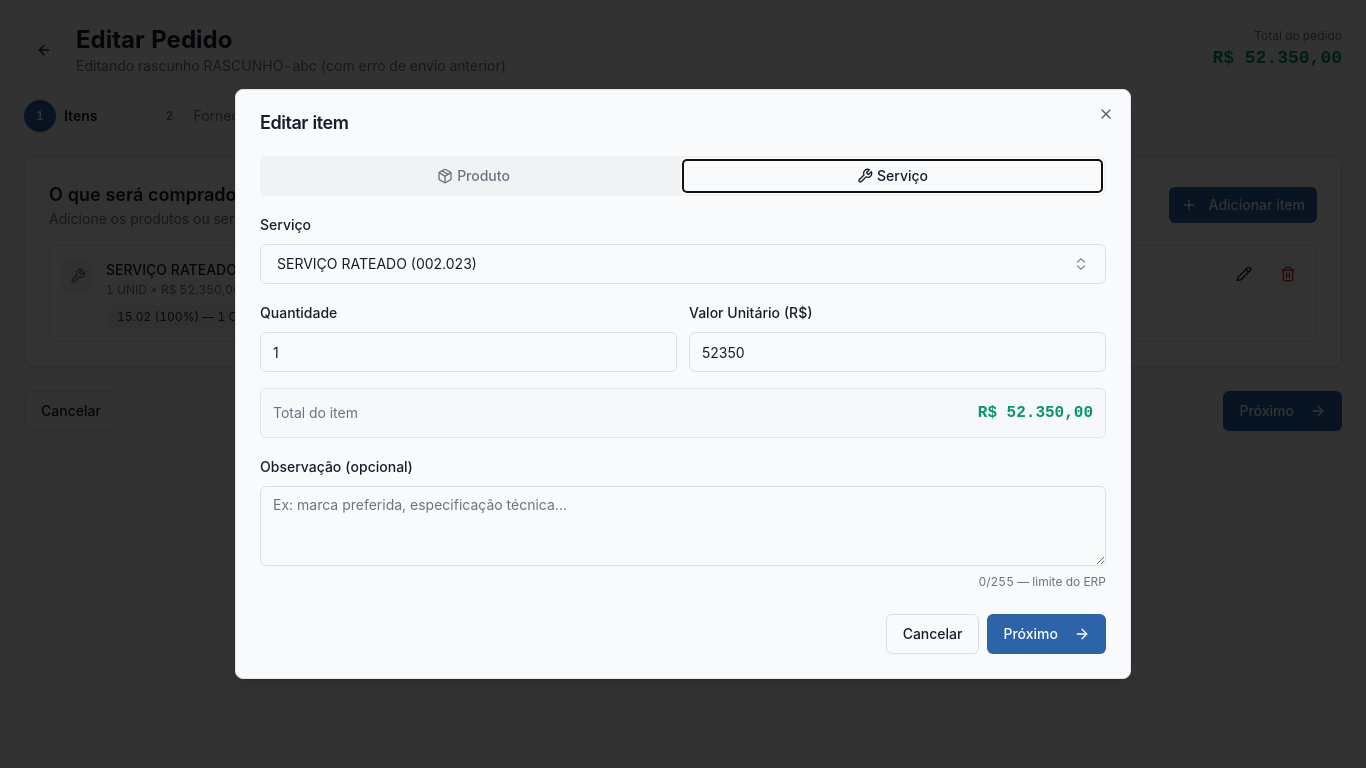
Scenario: wizard de pedido — rateio em massa por valor, ponta a ponta na tela › colar → escolher → aplicar → salvar → enviar: 19 CCs, R$ 52.350,00 e 100,0000% exatos
Earlier steps of the test are not shown.
Later steps or results of the test are not shown.
Click the button "Próximo".
click(1047, 634)  # box [988, 614, 1106, 654]
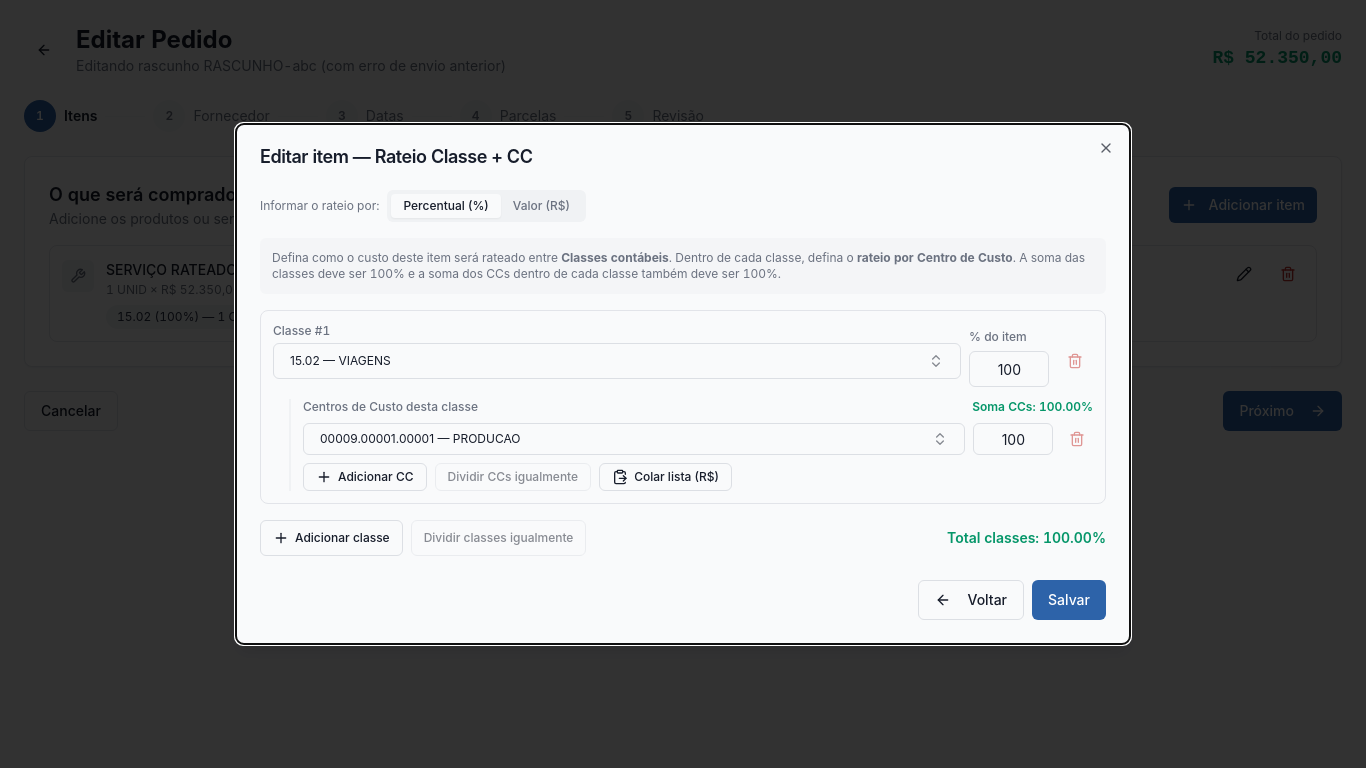
Click the button "Colar lista (R$)".
click(666, 477)  # box [599, 463, 732, 491]
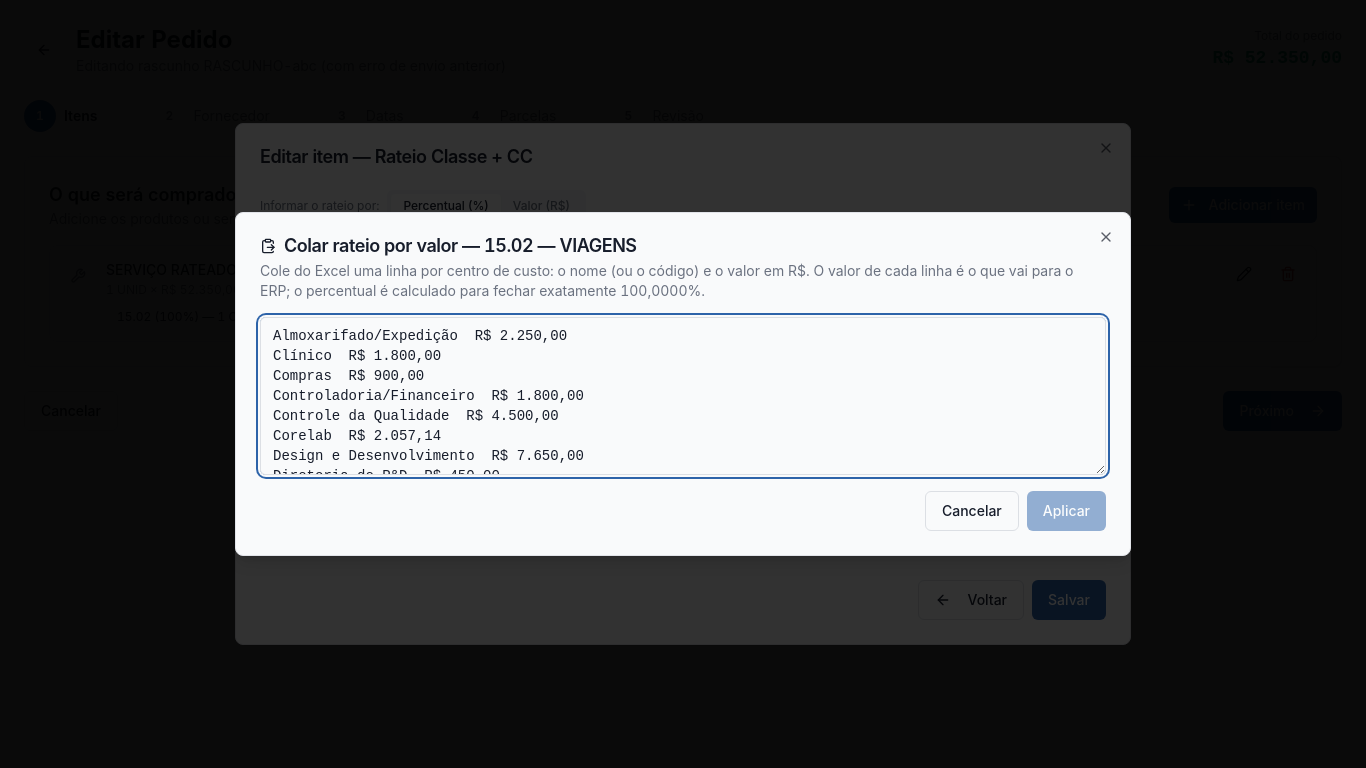
Replace the text in the text box named "Lista de centros de custo e valores" with "Almoxarifado/Expedição  R$ 2.250,00 Clínico  R$ 1.800,00 Compras  R$ 900,00 Controladoria/Financeiro  R$ 1.800,00 Controle da Qualidade  R$ 4.500,00 Corelab  R$ 2.057,14 Design e Desenvolvimento  R$ 7" at (683, 396), box [260, 317, 1106, 475]
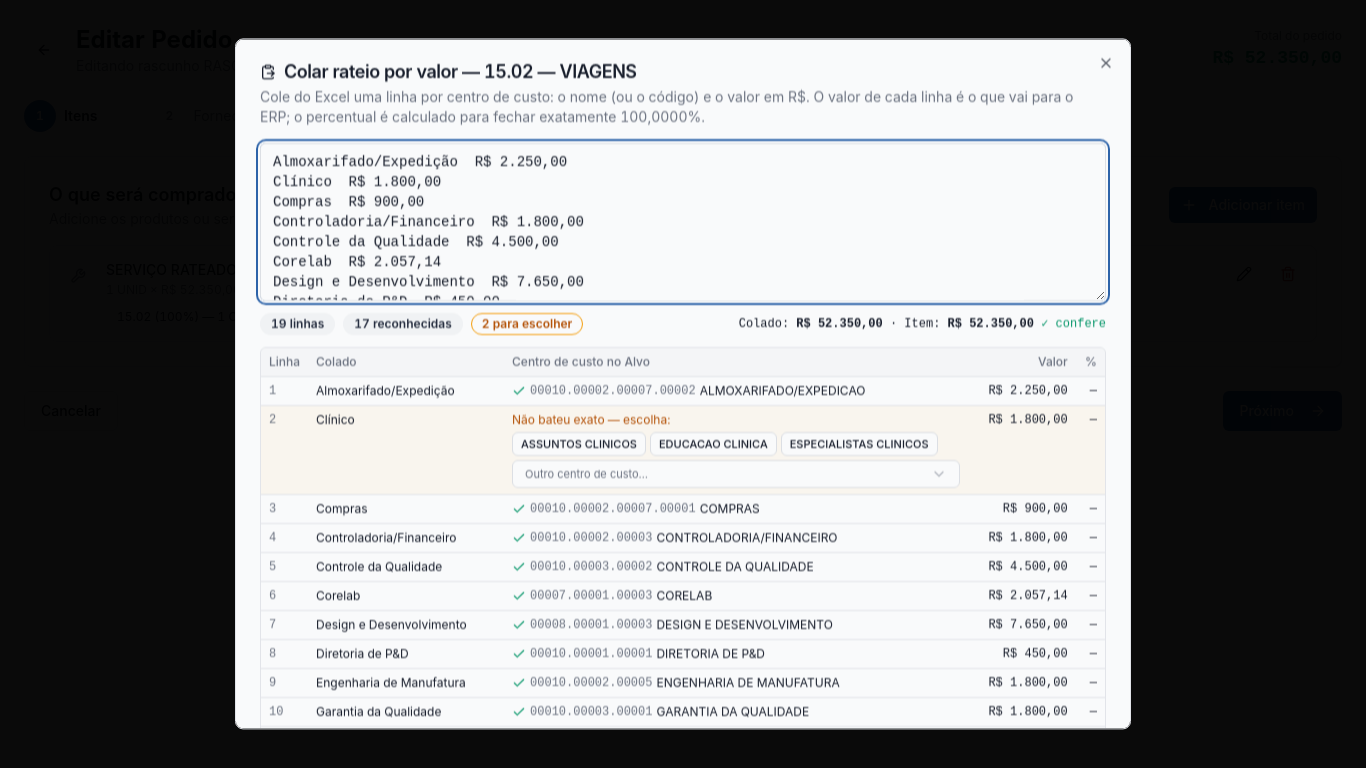
Click the button "ASSUNTOS CLINICOS".
click(579, 444)  # box [512, 432, 646, 456]
(page scrolled)
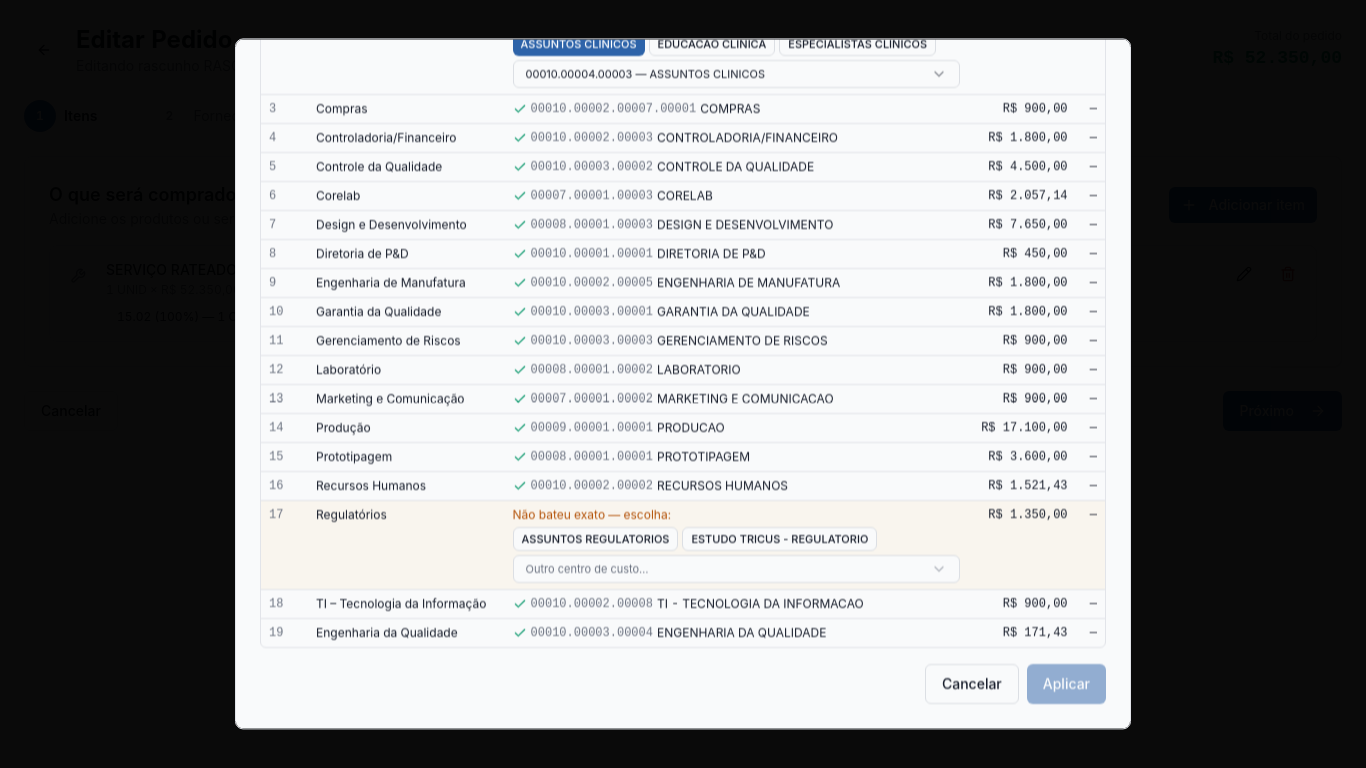
Click the button "ASSUNTOS REGULATORIOS".
click(595, 539)  # box [512, 527, 678, 551]
(page scrolled)
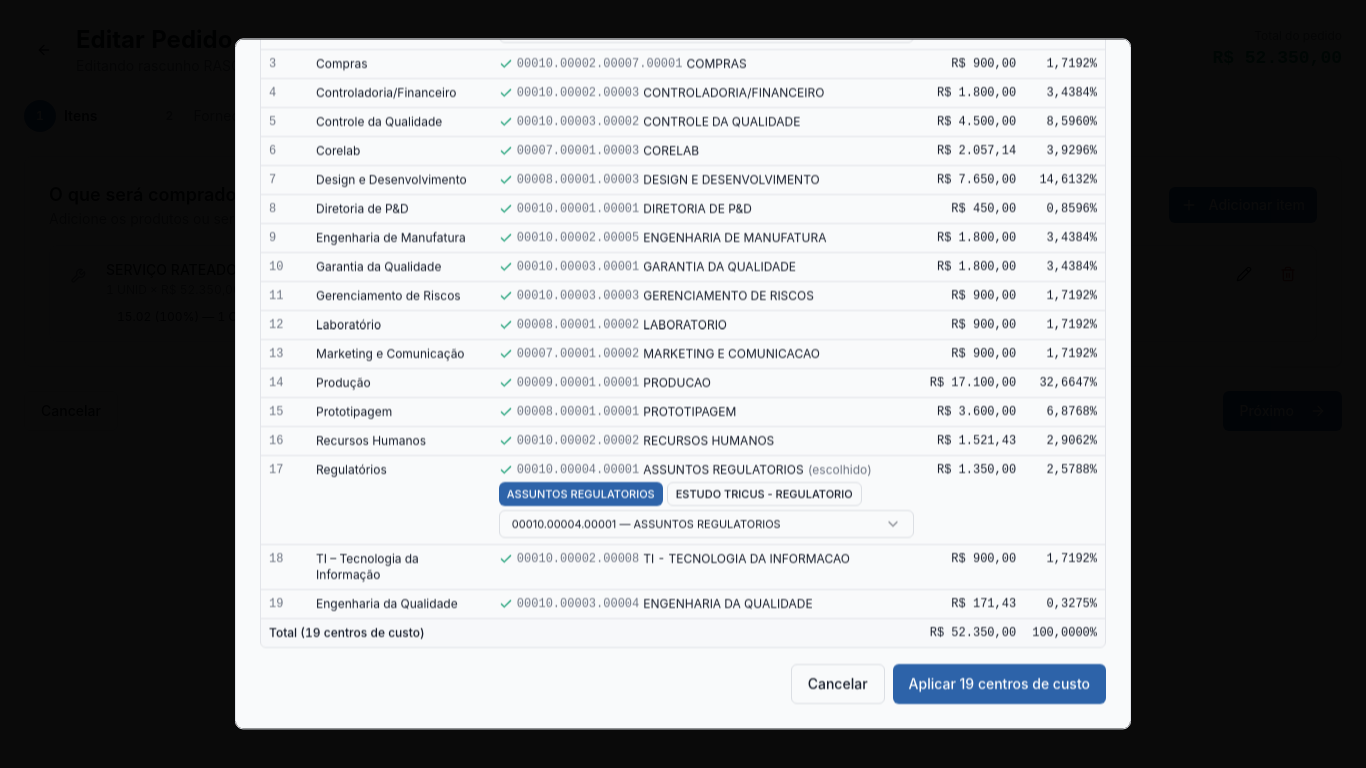
Click the button "Aplicar 19 centros de custo".
click(999, 684)  # box [893, 664, 1106, 704]
(page scrolled)
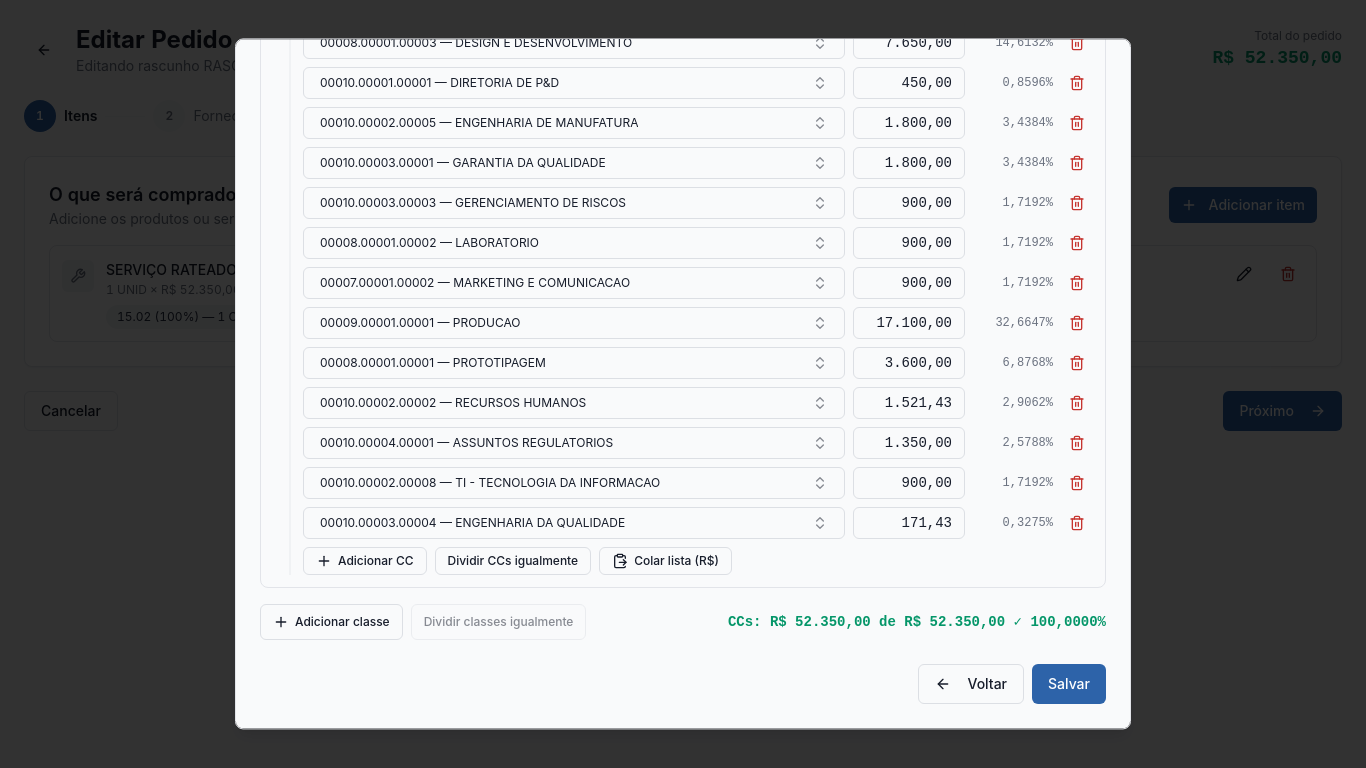
Expected: the text "CCs: R$ 52.350,00 de R$ 52.350,00 ✓ 100,0000%" is shown, [728, 612, 1106, 632]
